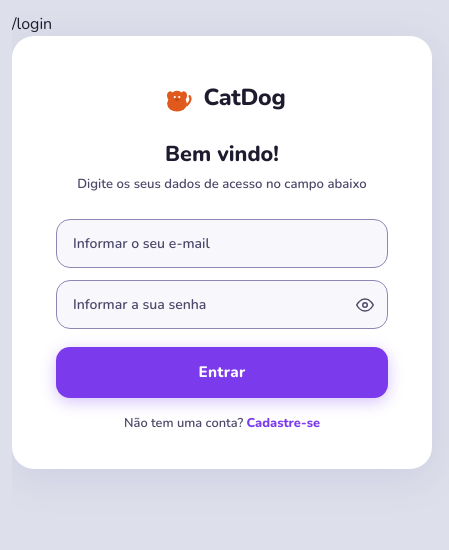
Scenario: LoginPage — falhas de autenticacao › CT-11: login com senha incorreta exibe "E-mail ou senha incorretos."
The width and height of the screenshot is (449, 550).
Type "pessoa@catdog.test" into the field labelled "e-mail" at (222, 244), box [56,219,388,268]
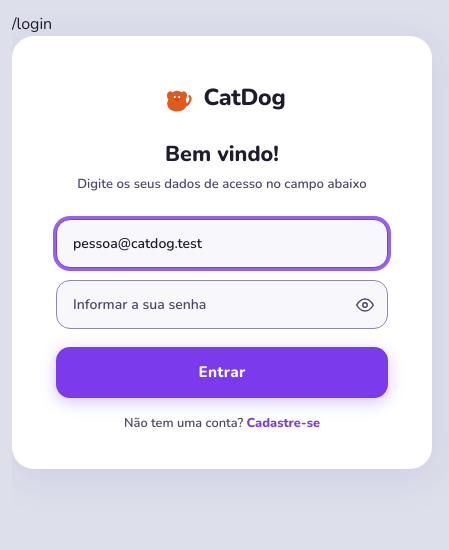
Type "SenhaValida1" into the password field labelled "senha" at (222, 305), box [56,280,388,329]
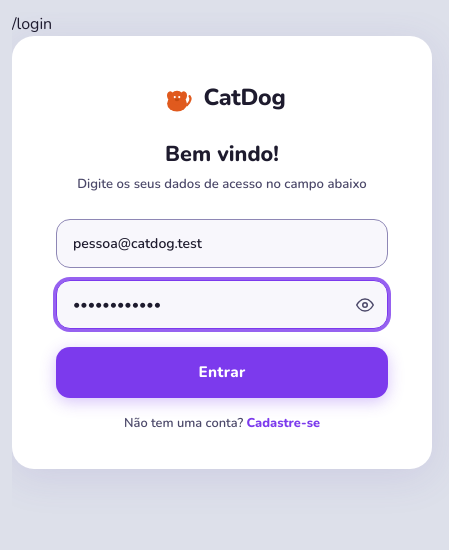
Click the button "Entrar" at (222, 372), box [56,347,388,398]
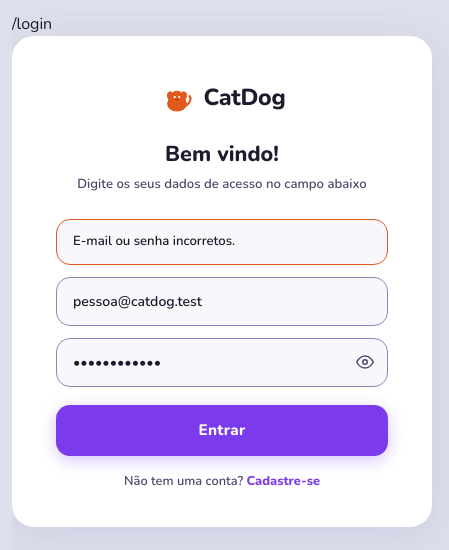
expect the text with test id "localizacao-atual" reads "/login": met, box [12,13,52,35]
expect the message reads "E-mail ou senha incorretos.": met, box [73,232,235,250]
